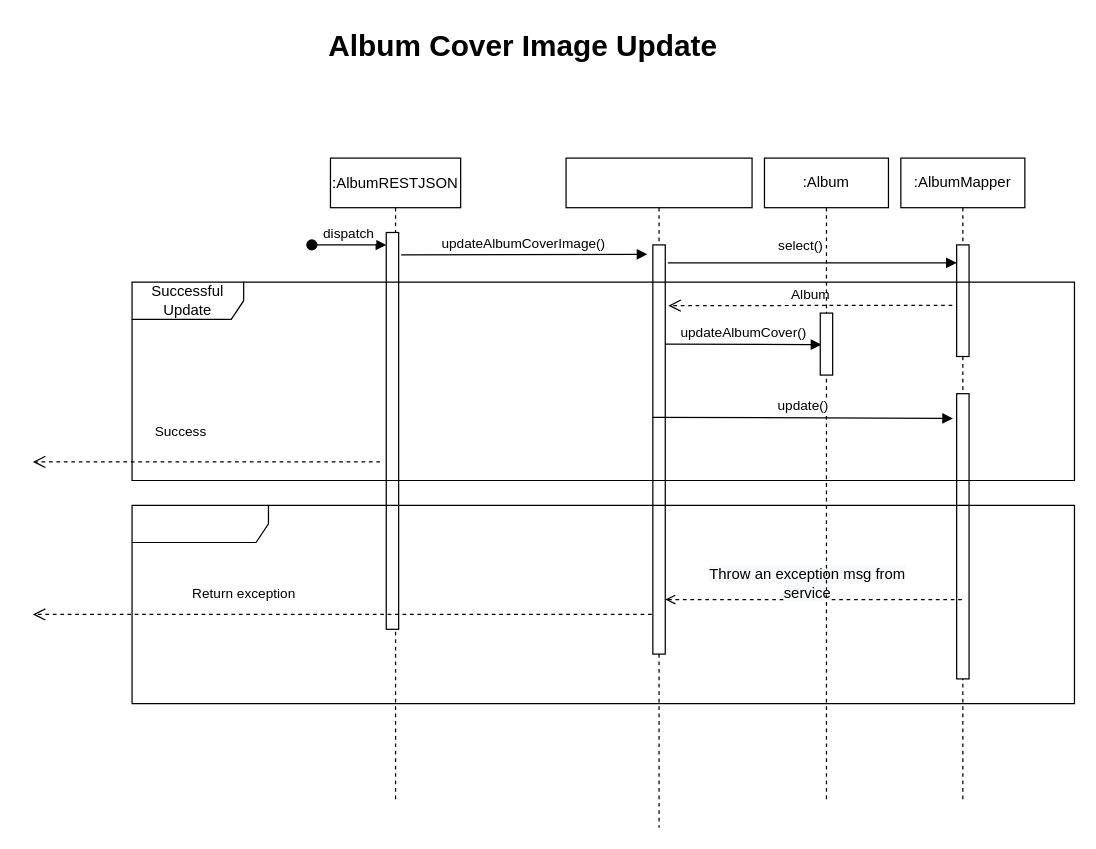
Image size: 1096x849. Some labels were removed from this diagram. Here are the shapes that lost their labels. From the top down, the box of each, then its label:
(565, 157, 752, 828): :AlbumRepoImplementation
(131, 504, 1074, 704): UnSuccessful Update
